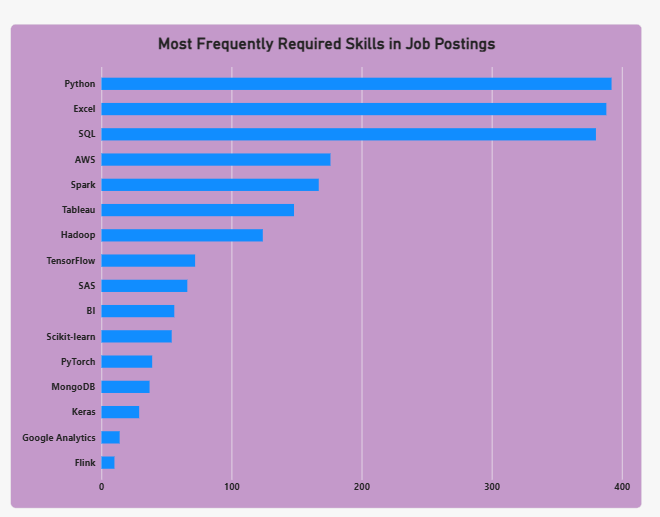

Layout of this report page (visuals, bound fields, positions):
{"tool":"powerbi","page":{"name":"Page 7","canvas":[1920,1080],"ordinal":5},"visuals":[{"type":"clusteredBarChart","title":"Most Frequently Required Skills in Job Postings","fields":{"Category":["Skills.Skill"],"Y":["Sum(Skills.Count)"]},"box":[356.6,172.6,956.2,733.6],"z":0}]}

Visuals, with their boxes on the page's 1920x1080 design canvas (x1, y1, x2, y2). These are canvas units, not pixel positions in the 660x517 screenshot, which may show the page scaled, cropped or inside an application window:
"Most Frequently Required Skills in Job Postings" clusteredBarChart: [x1=357, y1=173, x2=1313, y2=906]
